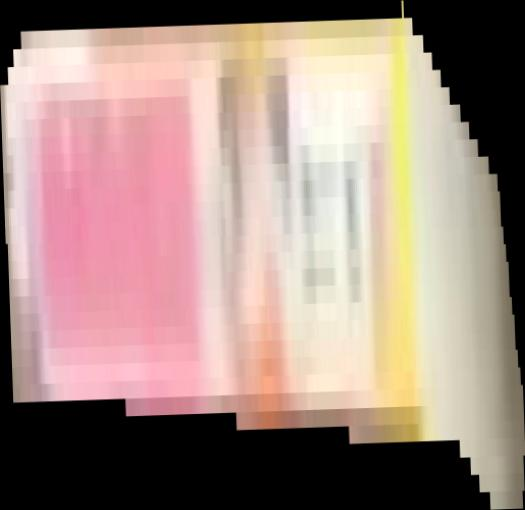flat: (1, 1, 525, 510)
